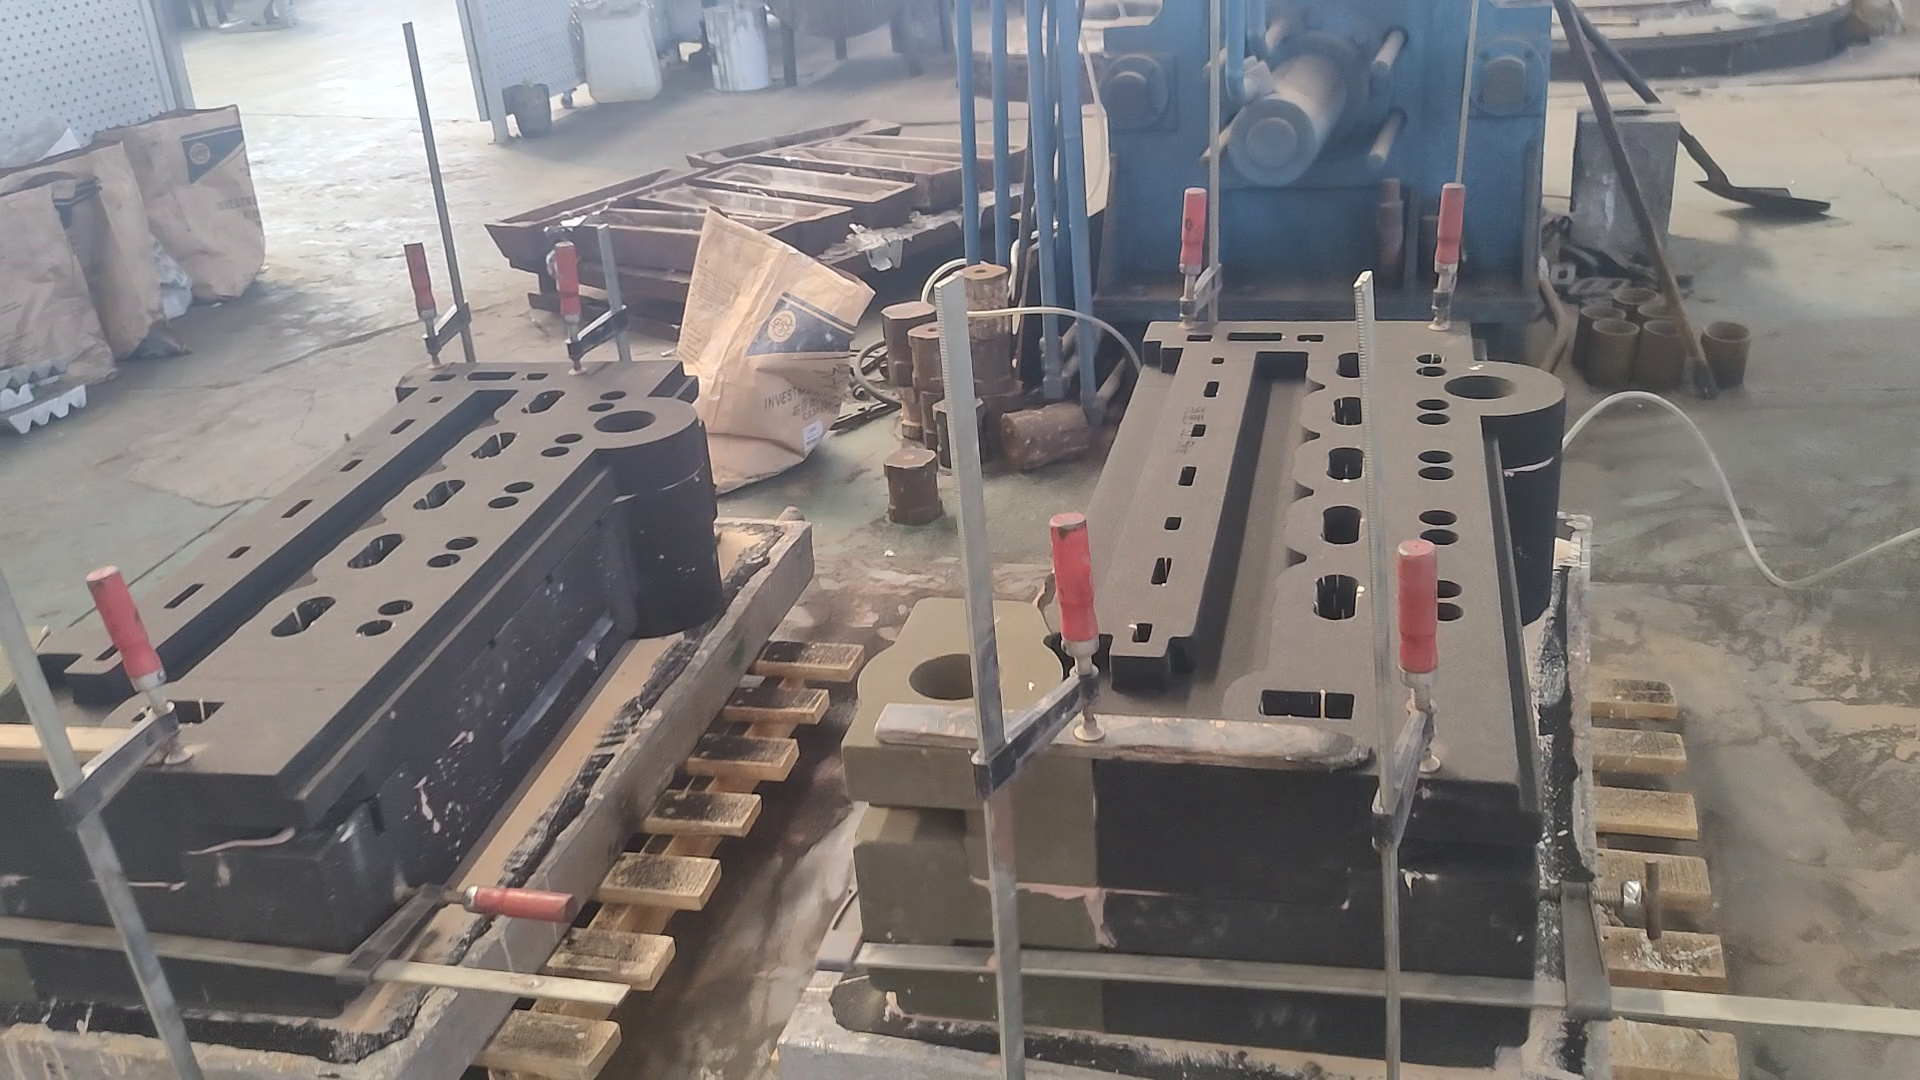pouring hole: (909, 651, 1000, 698), (1443, 375, 1518, 400), (592, 410, 657, 433), (1702, 320, 1750, 342), (1643, 319, 1695, 338), (1613, 286, 1659, 303), (1578, 303, 1625, 319), (1593, 318, 1639, 334), (1638, 305, 1684, 319)
